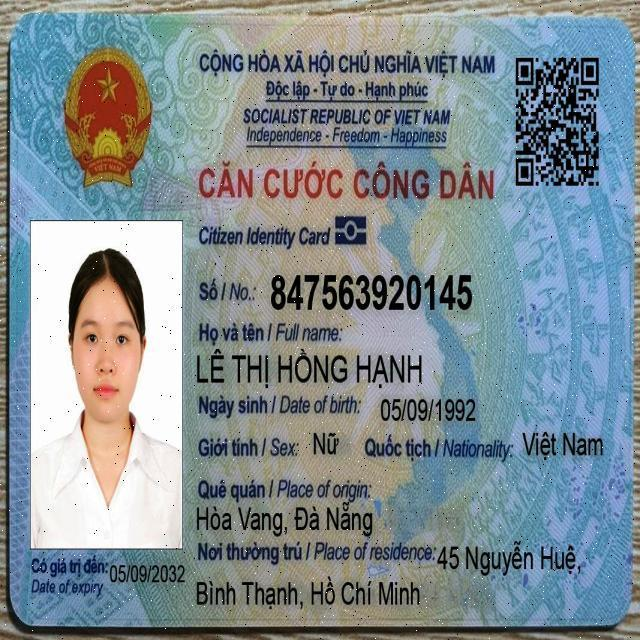current_place: (193, 571, 424, 617), (434, 536, 583, 581)
dob: (375, 390, 480, 428)
expire_date: (108, 558, 188, 590)
gender: (308, 426, 344, 462)
id: (268, 267, 477, 318)
name: (194, 343, 425, 393)
nationality: (519, 425, 607, 464)
origin_place: (194, 499, 376, 540)
